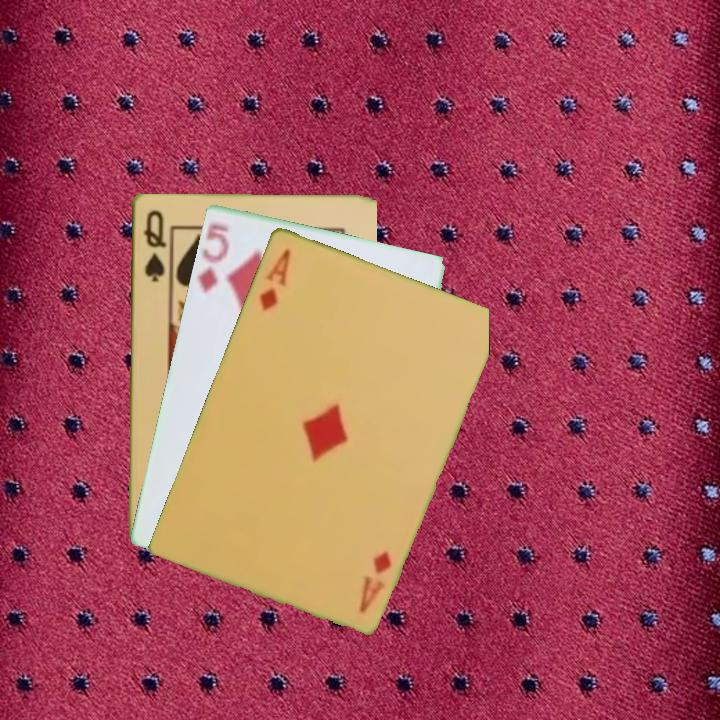5d: (194, 220, 232, 295)
Ad: (355, 547, 395, 615), (255, 244, 293, 314)
Qs: (140, 205, 168, 285)
